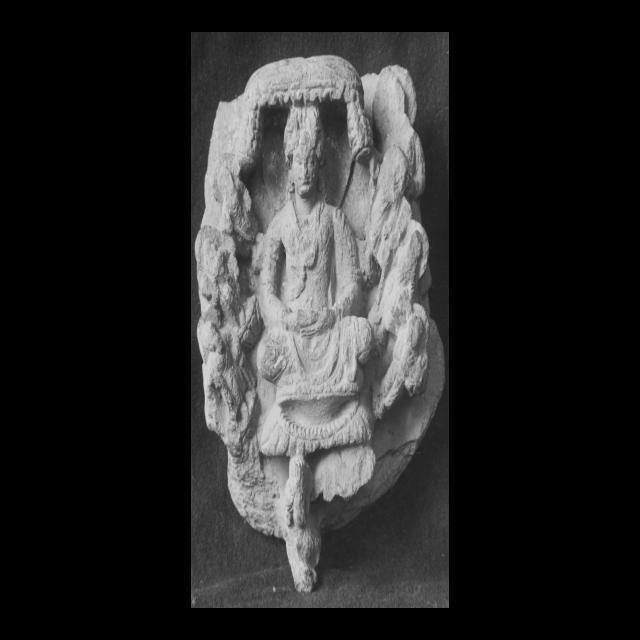buddha-sitting: (258, 104, 372, 588)
